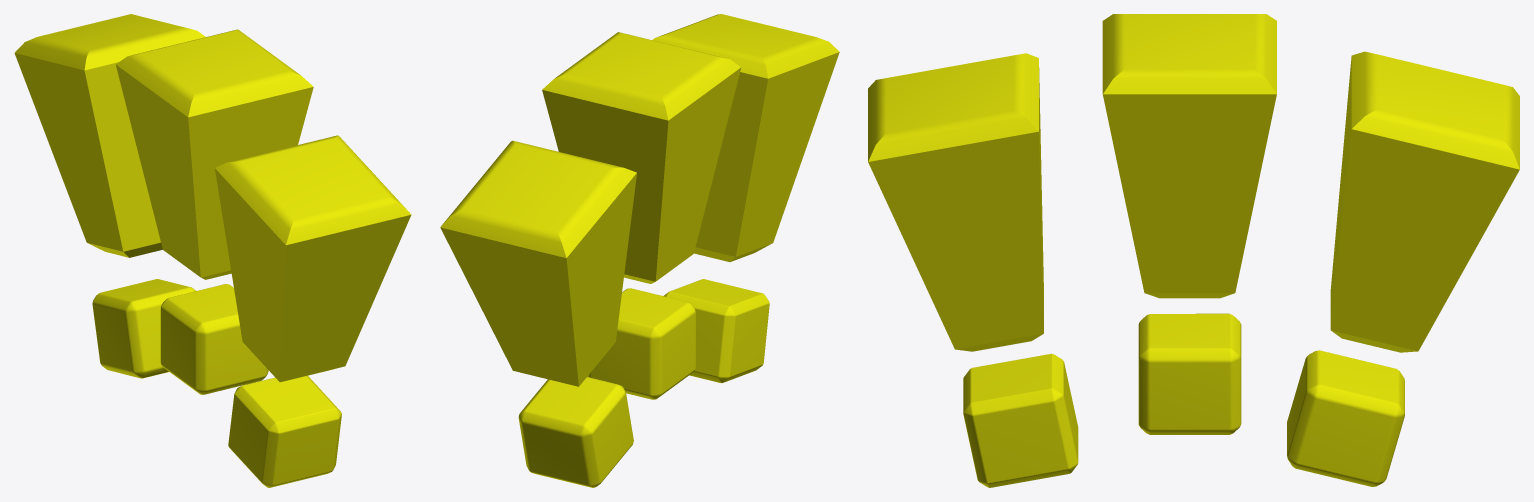
The model's file is Warning.fbx.
3 renders of one model, left to right at view 1: azimuth 30°, elevation 25°; view 2: azimuth 150°, elevation 25°; view 3: azimuth 270°, elevation 25°, orthographic. The views are drawn at different scales.
Parts seen in each view (by area): view 1: Warning; view 2: Warning; view 3: Warning.
Boxes of the visible parts, x1,y1,x2,y2 form: Warning: (14,14,411,487); Warning: (440,14,839,487); Warning: (868,14,1519,487).
Size of the model in its own units: 1.98 by 5.37 by 7.4.
